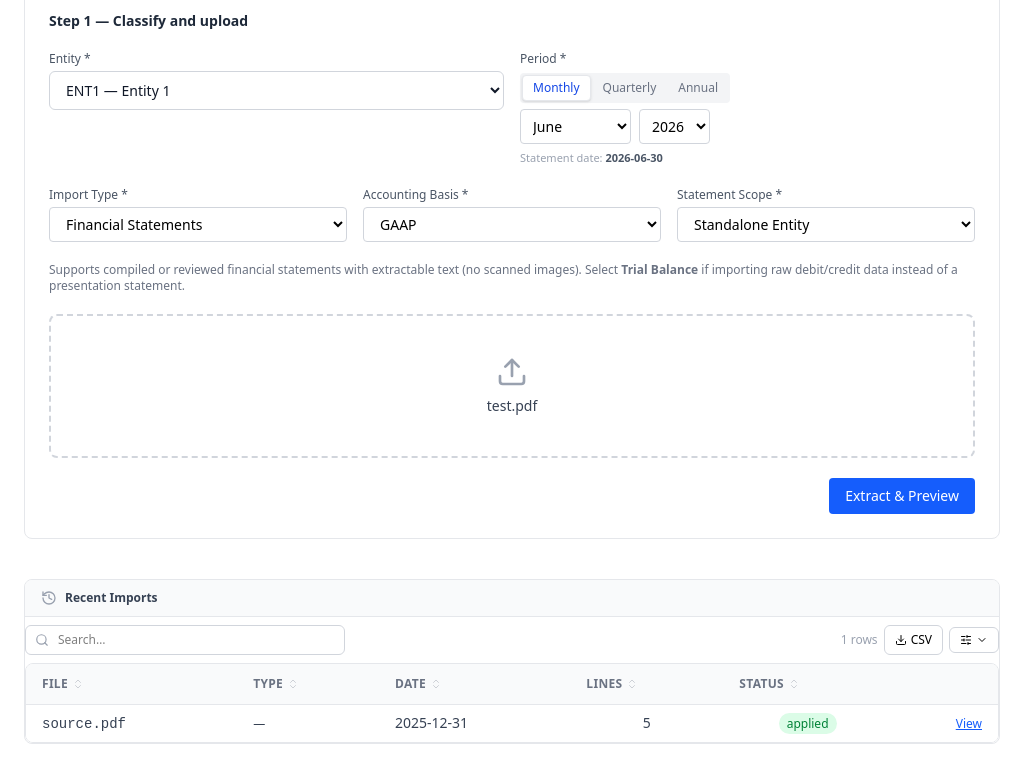
Test: PDF-P10: entity name mismatch warning › shows mismatch warning when PDF entity name differs from selected entity
Earlier steps of the test are not shown.
(page scrolled)
Step 1. Click the button with test id "parse-pdf-btn" → (902, 496), box [829,478,975,514]
(page scrolled)
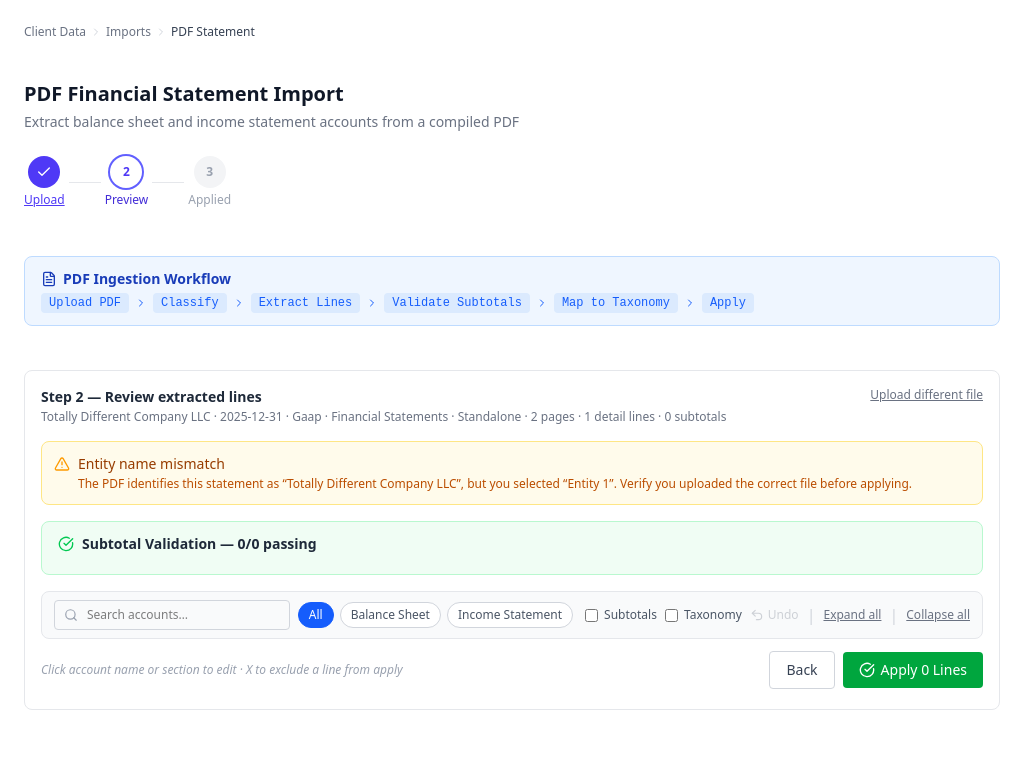
Expected: the button with test id "apply-pdf-btn" is shown, [843,652,983,688]
Expected: the element with test id "entity-mismatch-warning" is shown, [41,441,983,505]
Expected: the text "Entity name mismatch" is shown, [78,454,225,473]
